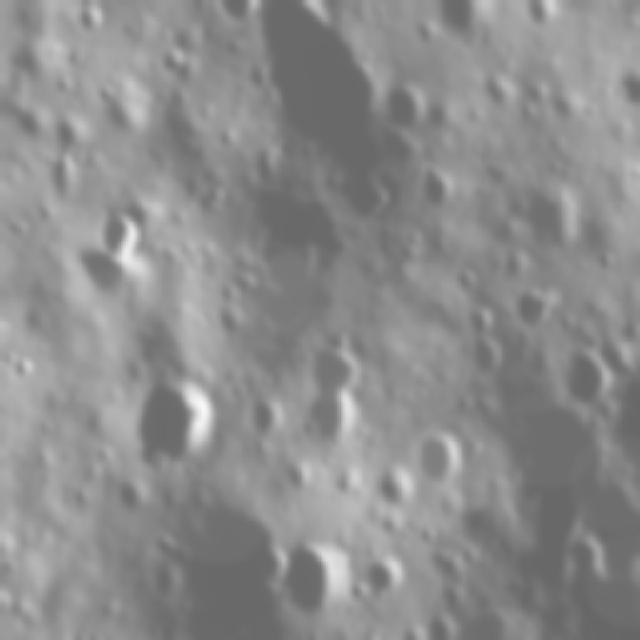crater: (252, 0, 396, 182), (128, 372, 221, 480), (274, 531, 348, 631), (239, 220, 324, 303), (300, 329, 368, 400), (518, 185, 580, 262), (306, 394, 374, 454), (74, 244, 134, 304), (428, 0, 498, 46), (90, 206, 142, 266), (382, 78, 432, 140), (559, 355, 612, 413), (360, 551, 411, 607), (411, 432, 463, 483), (418, 163, 462, 222), (504, 290, 550, 342), (457, 338, 503, 380), (518, 0, 567, 37), (0, 344, 38, 389), (612, 58, 640, 116), (456, 303, 499, 340), (448, 263, 482, 305), (210, 0, 262, 26), (432, 581, 470, 613), (592, 246, 618, 280), (425, 617, 461, 640)
